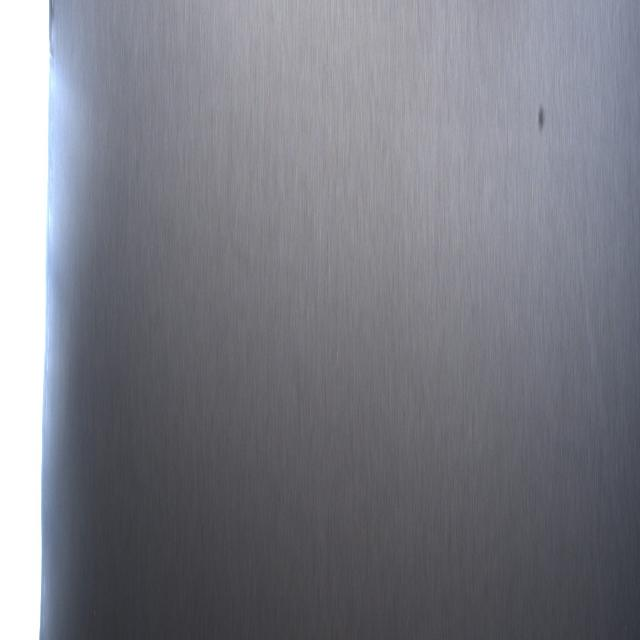crease: (575, 220, 612, 438)
